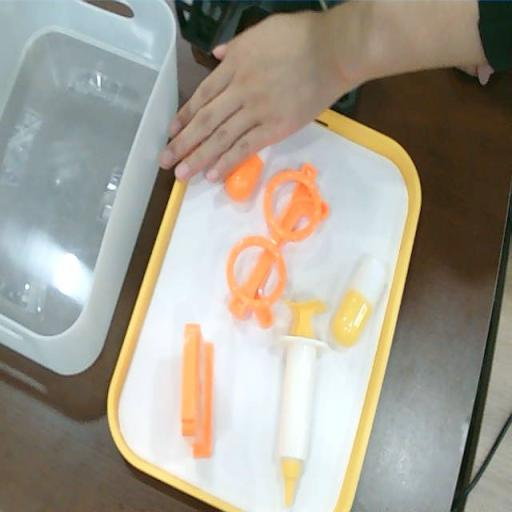hospital: (166, 6, 344, 182)
